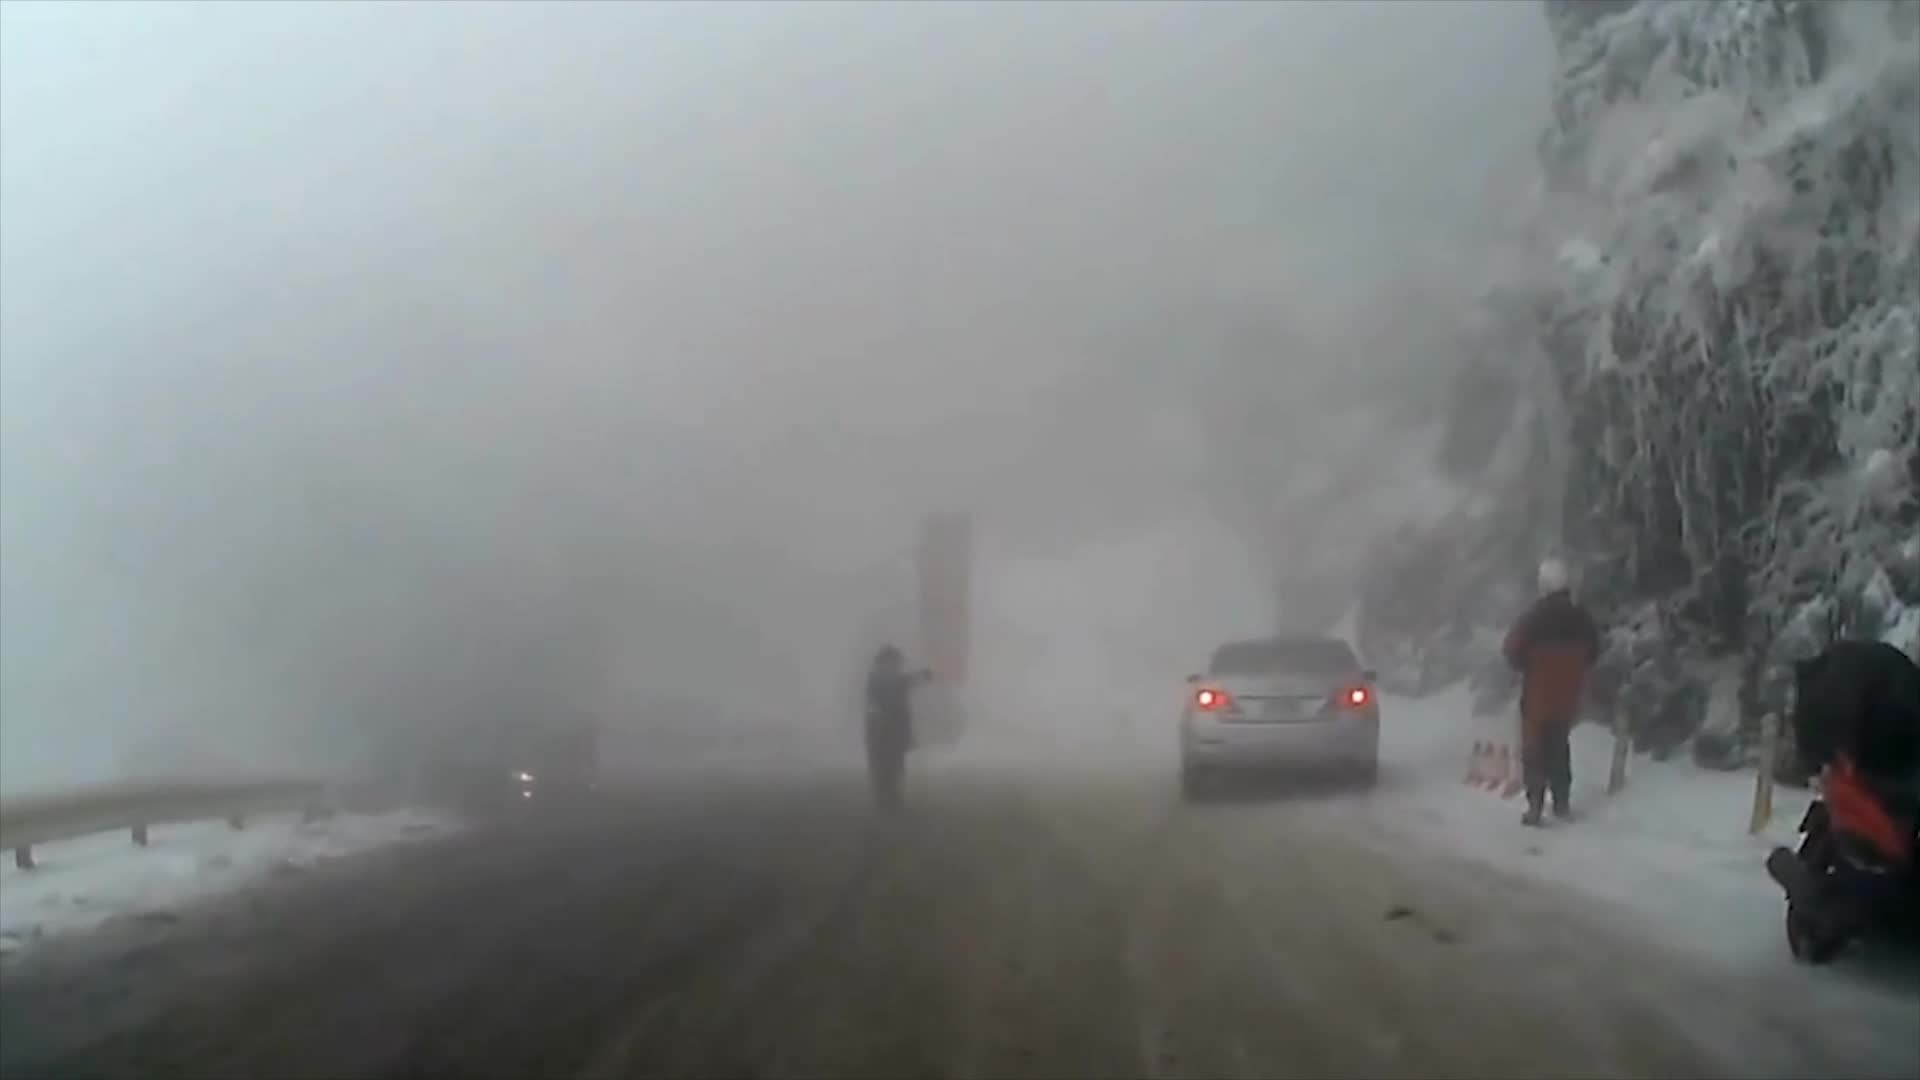pedestrian: (1506, 554, 1612, 830), (864, 644, 928, 820)
vehicle: (1179, 634, 1378, 802)
